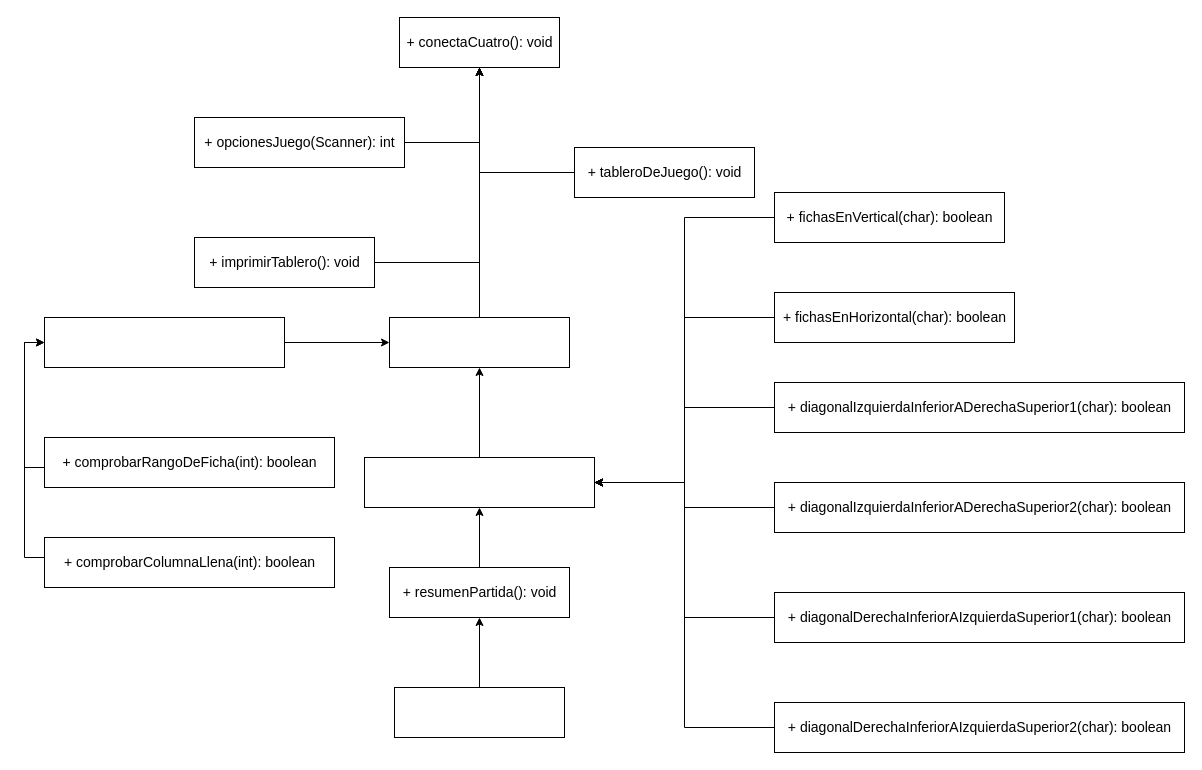
This 1202x770 diagram has some shape labels left out. Here are the shapes that lost their labels. From the top down, the centre of each, then its label:
At point 164,342: "+ agregarFichaTablero(int): boolean".
At point 479,342: "+ turnosJugadores(): void".
At point 479,482: "+ comprobarGanador(): boolean".
At point 479,712: "+ tiempoPartida(): void".
